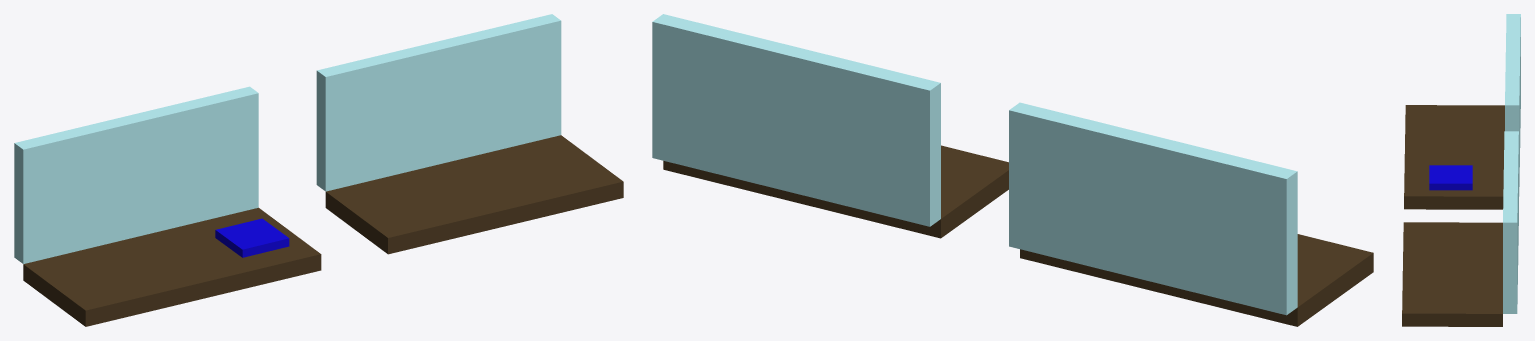
File: tempFiled.fbx
The picture shows the model from 3 angles, left to right: view 1: azimuth 30°, elevation 25°; view 2: azimuth 150°, elevation 25°; view 3: azimuth 270°, elevation 25°; orthographic projection. The views are drawn at different scales.
Visible parts, largest first — view 1: Cube.003, Cube, Cube.002, Cube.001, 立方体; view 2: Cube.003, Cube, Cube.001, Cube.002; view 3: Cube.002, Cube.001, Cube.003, Cube, 立方体.
Part boxes in pixels (x1,y1,x2,y2): Cube.003: (316,14,561,191); Cube: (14,86,258,263); Cube.002: (325,135,623,254); Cube.001: (23,207,321,326); 立方体: (215,218,289,257); Cube.003: (652,14,940,226); Cube: (1009,102,1297,315); Cube.001: (1020,234,1373,326); Cube.002: (663,145,1008,238); Cube.002: (1402,222,1502,326); Cube.001: (1404,105,1504,209); Cube.003: (1503,131,1518,313); Cube: (1505,14,1520,196); 立方体: (1429,165,1472,190).
Bounding box in the file's own units: 6864 × 1600 × 1649.
